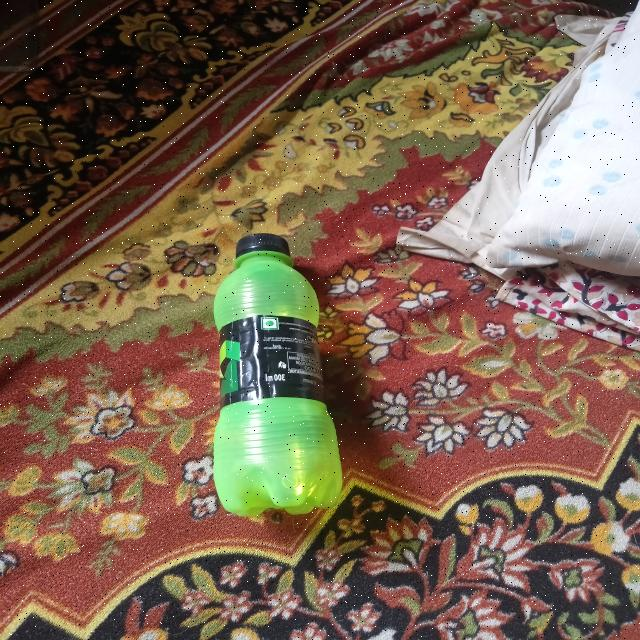plastic: (202, 230, 346, 522)
